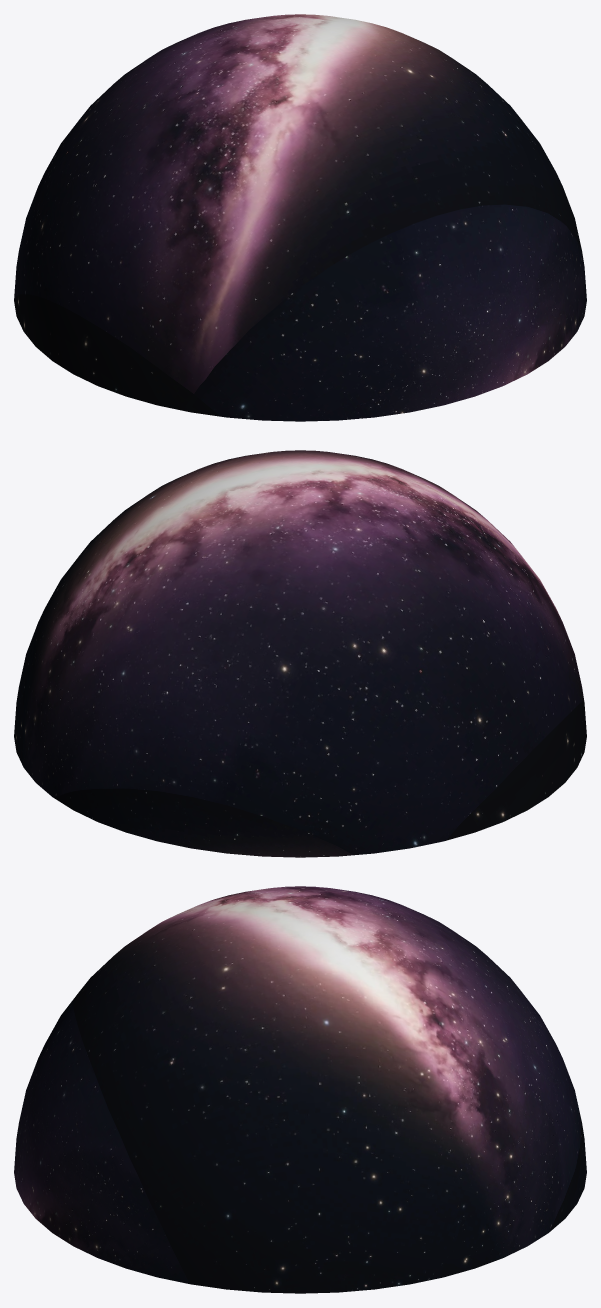
File: skybox_spacenebula.glb
3 renders of one model, top to bottom at view 1: azimuth 30°, elevation 25°; view 2: azimuth 150°, elevation 25°; view 3: azimuth 270°, elevation 25°, orthographic.
Parts seen in each view (by area): view 1: Sphere.002; view 2: Sphere.002; view 3: Sphere.002.
Part boxes in pixels (x1,y1,x2,y2): Sphere.002: (14, 14, 586, 421); Sphere.002: (14, 450, 586, 857); Sphere.002: (14, 886, 586, 1293).
Size of the model in its own units: 200 by 99.99 by 200.
1 material, 1 textured.
